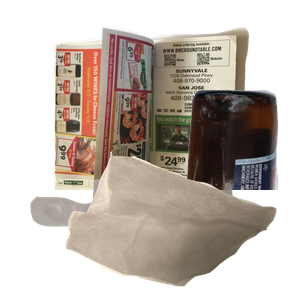glass: (87, 87, 300, 267)
paper: (51, 24, 291, 204)
plastic: (28, 176, 253, 300)
trash: (63, 149, 300, 300)
